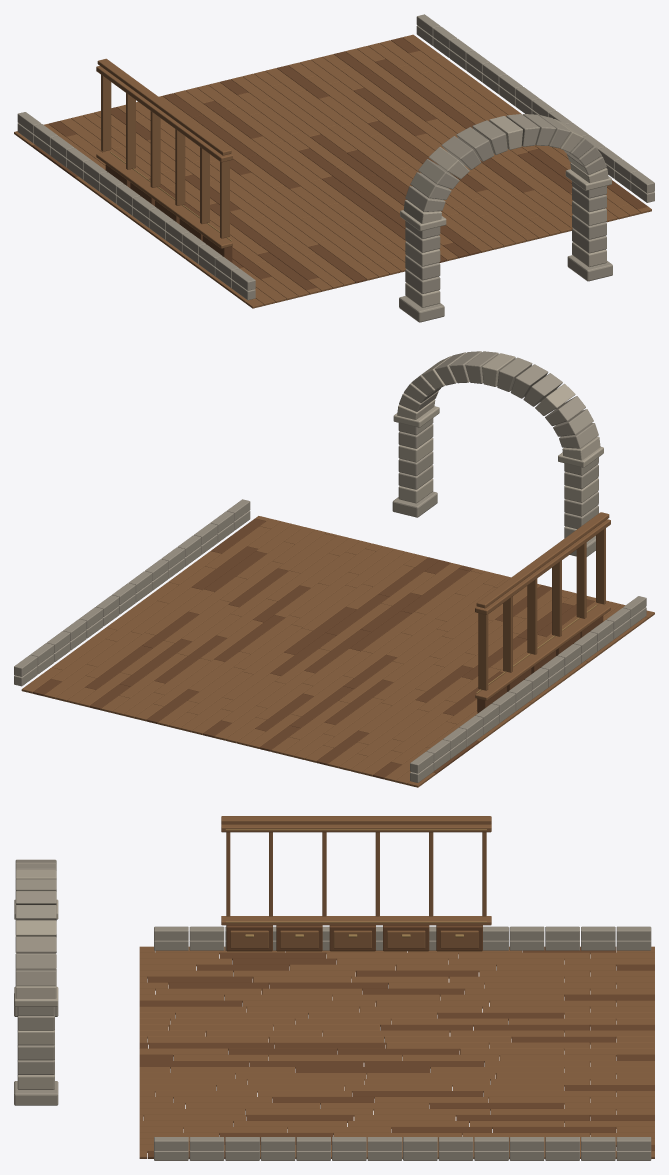
Rendered from armory_architecture.glb.
3 renders of one model, top to bottom at view 1: azimuth 30°, elevation 25°; view 2: azimuth 150°, elevation 25°; view 3: azimuth 270°, elevation 25°, orthographic. The views are drawn at different scales.
Parts seen in each view (by area): view 1: ArmoryOak, ArmoryStone, ArmoryOakDark, ArmoryStoneLight; view 2: ArmoryOak, ArmoryStone, ArmoryOakDark, ArmoryStoneLight; view 3: ArmoryOak, ArmoryOakDark, ArmoryStone, ArmoryStoneLight, ArmoryBrass.
Boxes of the visible parts, x1=… form: ArmoryOak: x1=14, y1=34, x2=651, y2=308; ArmoryStone: x1=17, y1=14, x2=654, y2=322; ArmoryOakDark: x1=32, y1=37, x2=648, y2=290; ArmoryStoneLight: x1=400, y1=116, x2=611, y2=307; ArmoryOak: x1=21, y1=512, x2=654, y2=787; ArmoryStone: x1=14, y1=351, x2=646, y2=782; ArmoryOakDark: x1=33, y1=518, x2=603, y2=779; ArmoryStoneLight: x1=393, y1=353, x2=603, y2=538; ArmoryOak: x1=139, y1=816, x2=654, y2=1158; ArmoryOakDark: x1=139, y1=925, x2=654, y2=1158; ArmoryStone: x1=14, y1=859, x2=651, y2=1160; ArmoryStoneLight: x1=14, y1=870, x2=58, y2=1089; ArmoryBrass: x1=225, y1=829, x2=486, y2=937.
Bounding box in the file's own units: 14.33 × 5.68 × 18.02.
